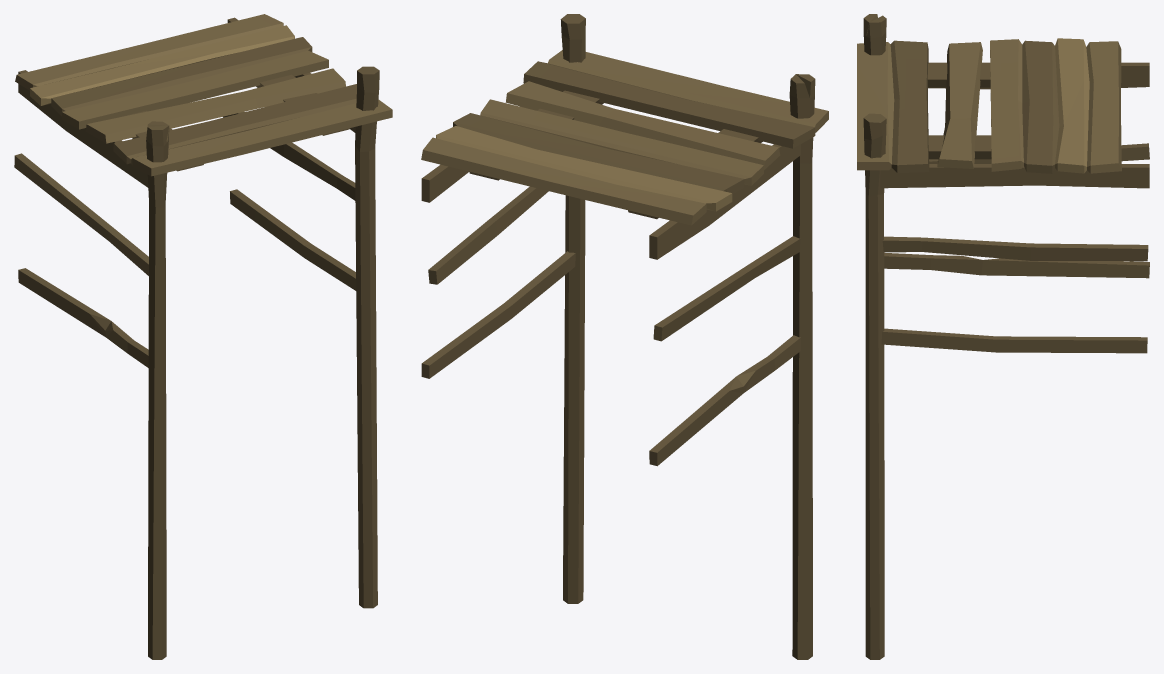
File: Dock1.fbx
3 views of the same model, side by side, from view 1: azimuth 30°, elevation 25°; view 2: azimuth 150°, elevation 25°; view 3: azimuth 270°, elevation 25° (orthographic). The views are drawn at different scales.
Visible parts, largest first — view 1: Dock_1; view 2: Dock_1; view 3: Dock_1.
Part boxes in pixels (x1,y1,x2,y2): Dock_1: [14, 14, 392, 659]; Dock_1: [421, 14, 828, 659]; Dock_1: [857, 14, 1149, 659].
Bounding box in the file's own units: 342 × 674 × 332.
